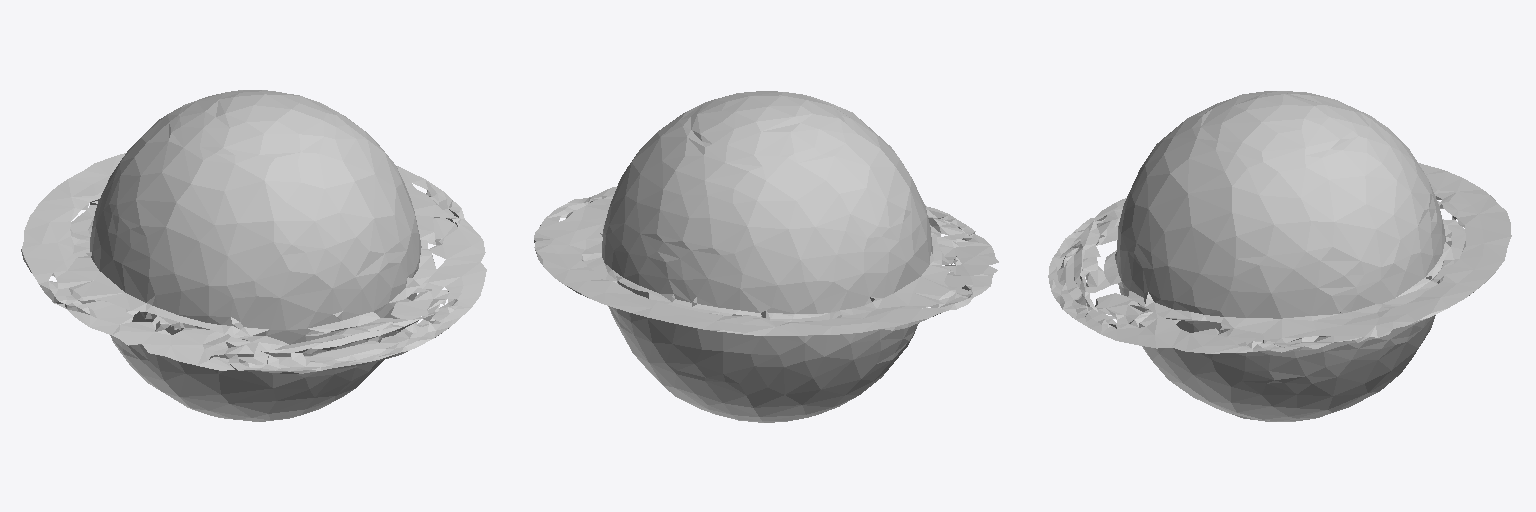
Rendered from SaturnoMeshy.obj.
3 renders of one model, left to right at view 1: azimuth 30°, elevation 25°; view 2: azimuth 150°, elevation 25°; view 3: azimuth 270°, elevation 25°, orthographic.
Visible parts, largest first — view 1: _Saturn_planet_with_r_[number redacted]_texture; view 2: _Saturn_planet_with_r_[number redacted]_texture; view 3: _Saturn_planet_with_r_[number redacted]_texture.
Boxes of the visible parts, x1=… form: _Saturn_planet_with_r_[number redacted]_texture: x1=21, y1=90, x2=486, y2=421; _Saturn_planet_with_r_[number redacted]_texture: x1=534, y1=91, x2=998, y2=422; _Saturn_planet_with_r_[number redacted]_texture: x1=1048, y1=91, x2=1511, y2=421.
Bounding box in the file's own units: 1.91 × 1.36 × 1.9.